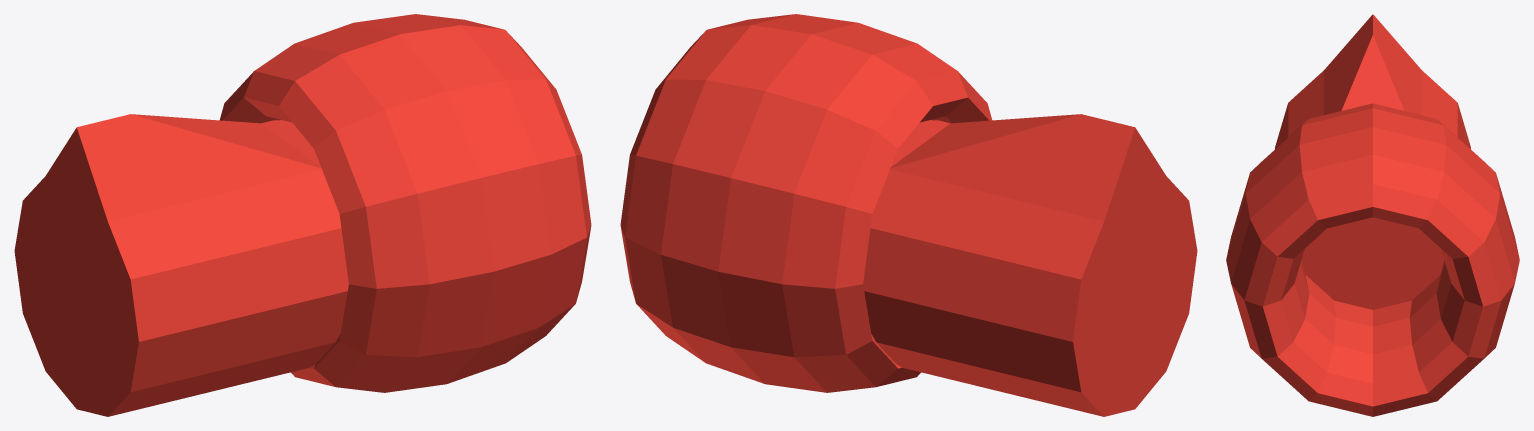
File: Laser.obj
The picture shows the model from 3 angles, left to right: view 1: azimuth 30°, elevation 25°; view 2: azimuth 150°, elevation 25°; view 3: azimuth 270°, elevation 25°; orthographic projection. The views are drawn at different scales.
Visible parts, largest first — view 1: group455296682, group1748521561; view 2: group455296682, group1748521561; view 3: group455296682, group1748521561.
Boxes of the visible parts, x1,y1,x2,y2 form: group455296682: [220, 14, 591, 392]; group1748521561: [14, 114, 348, 416]; group455296682: [620, 14, 991, 392]; group1748521561: [863, 114, 1197, 416]; group455296682: [1226, 103, 1519, 416]; group1748521561: [1275, 14, 1470, 309].
Bounding box in the file's own units: 0.0825 × 0.06 × 0.06.
